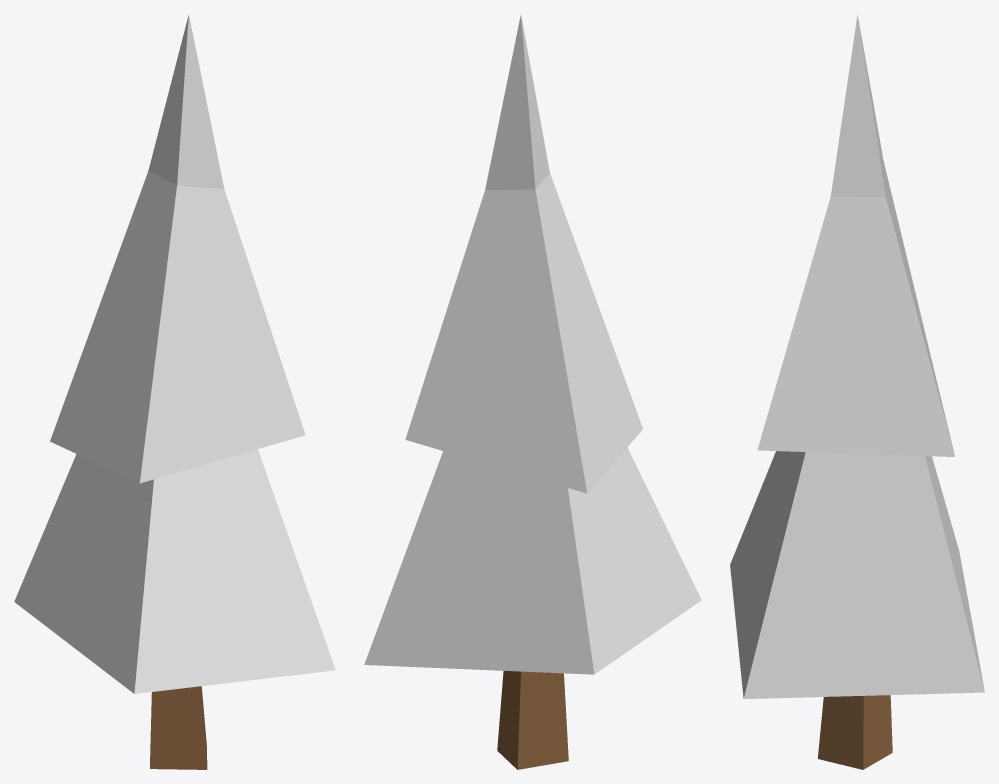
Rendered from Fir_Tree_OneSided_s_Snow_05.fbx.
3 renders of one model, left to right at view 1: azimuth 30°, elevation 25°; view 2: azimuth 150°, elevation 25°; view 3: azimuth 270°, elevation 25°, orthographic.
Parts seen in each view (by area): view 1: Fir_Tree_OneSided_s_Snow_05; view 2: Fir_Tree_OneSided_s_Snow_05; view 3: Fir_Tree_OneSided_s_Snow_05.
Part boxes in pixels (bbox=[...]): Fir_Tree_OneSided_s_Snow_05: bbox=[14, 14, 335, 769]; Fir_Tree_OneSided_s_Snow_05: bbox=[364, 15, 701, 769]; Fir_Tree_OneSided_s_Snow_05: bbox=[730, 15, 984, 769].
Bounding box in the file's own units: 44.08 × 143 × 44.39.
